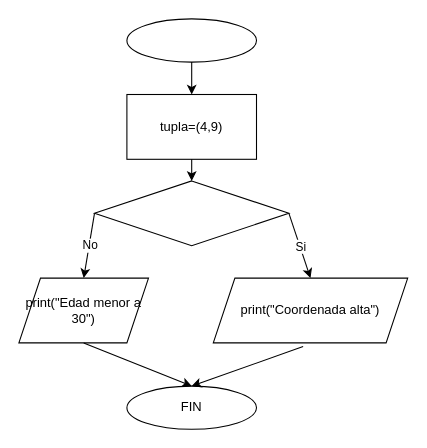
Some shapes in this 427 by 448 pixel diagram are drawn without their labels. The shapes that lost their labels are listed below. From the top down, each one's box as (x1, y1, x2, y2) in pixels, then its label:
(126, 18, 256, 62): INICIO
(93, 180, 289, 246): if tupla[1]>5:
